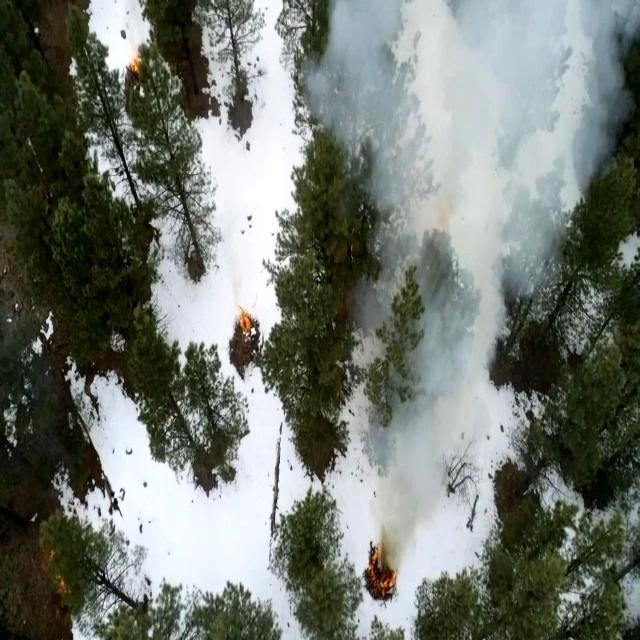Fire: (368, 540, 398, 600)
Smoke: (297, 8, 640, 296), (371, 282, 501, 528)
